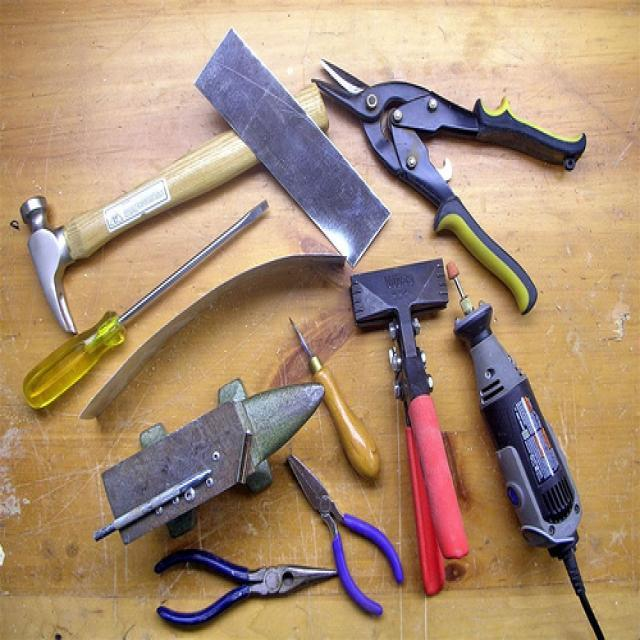hammer: (8, 58, 328, 356)
pliers: (307, 41, 588, 303), (282, 448, 412, 629), (144, 544, 343, 636)
screwdriver: (13, 188, 276, 428), (284, 300, 378, 488)
